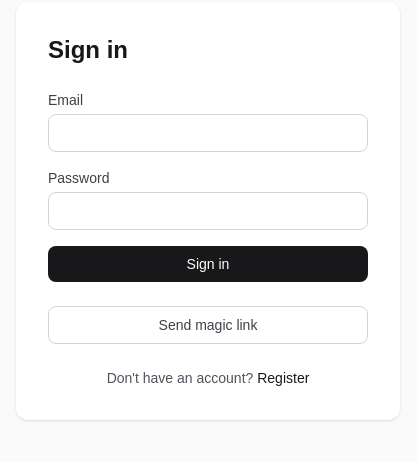
Test: LoginPage › shows validation errors when form is submitted empty
This screenshot has width=417, height=462.
Click the button "Sign in": (208, 264) x1=48 y1=246 x2=368 y2=282
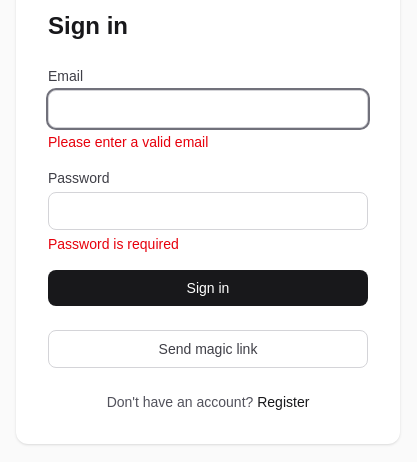
Result: the message "Please enter a valid email" is shown at x1=48 y1=134 x2=208 y2=150
